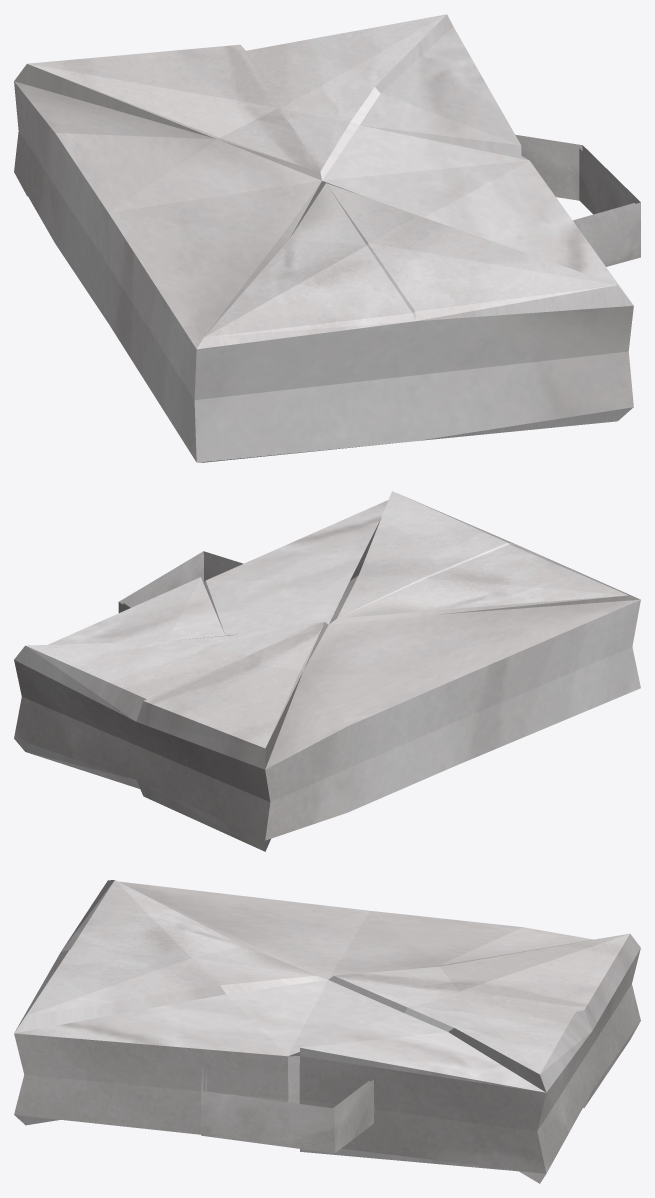
File: Maleta4.FBX
3 views of the same model, one above another, from view 1: azimuth 30°, elevation 25°; view 2: azimuth 150°, elevation 25°; view 3: azimuth 270°, elevation 25° (orthographic). The views are drawn at different scales.
Parts seen in each view (by area): view 1: Maleta3; view 2: Maleta3; view 3: Maleta3.
Part boxes in pixels (box(x1,y1,x2,y2)): Maleta3: box(14, 14, 640, 462); Maleta3: box(14, 491, 640, 851); Maleta3: box(14, 880, 640, 1183).
Bounding box in the file's own units: 70.34 × 17.64 × 89.8.
